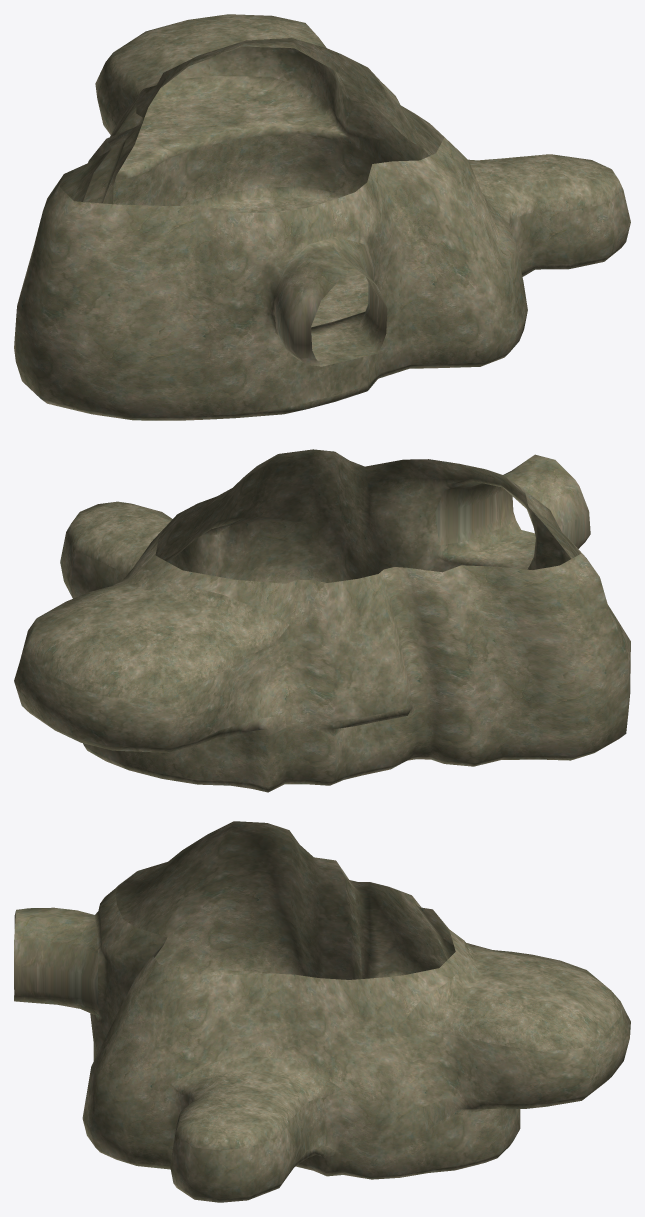
File: OVERHILL_A_01_ML_CAVE_01.fbx
The picture shows the model from 3 angles, top to bottom: view 1: azimuth 30°, elevation 25°; view 2: azimuth 150°, elevation 25°; view 3: azimuth 270°, elevation 25°; orthographic projection. The views are drawn at different scales.
Parts seen in each view (by area): view 1: OVERHILL_A_01_ML_CAVE_01; view 2: OVERHILL_A_01_ML_CAVE_01; view 3: OVERHILL_A_01_ML_CAVE_01.
Part boxes in pixels (bbox=[...]): OVERHILL_A_01_ML_CAVE_01: bbox=[14, 14, 630, 420]; OVERHILL_A_01_ML_CAVE_01: bbox=[14, 449, 630, 792]; OVERHILL_A_01_ML_CAVE_01: bbox=[14, 821, 630, 1202].
Size of the model in its own units: 225747 by 75277 by 227317.
2 materials, 2 textured.
